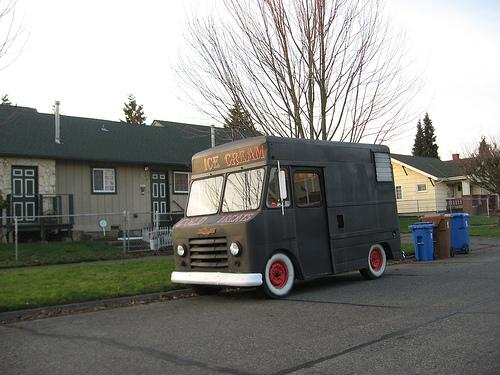truck: (170, 135, 402, 300)
